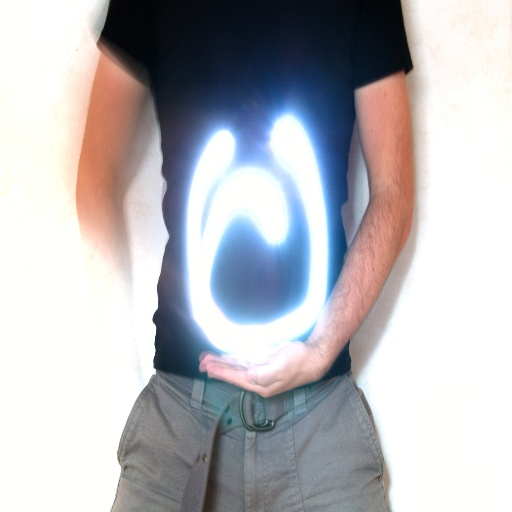hand: (198, 335, 310, 396)
